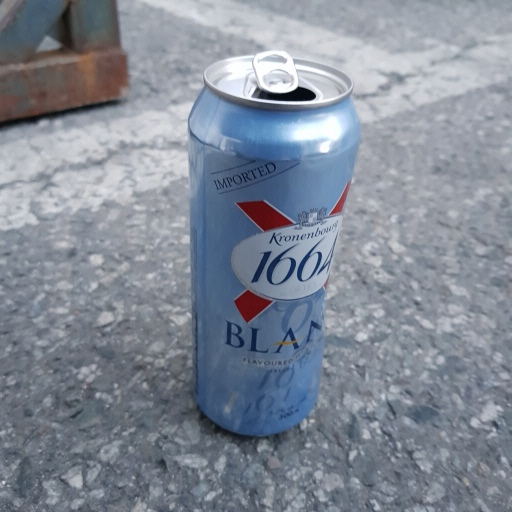Metal_0: (181, 44, 360, 443)
